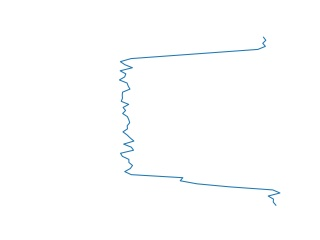distributaryChannelFill: (113, 36, 285, 207)
